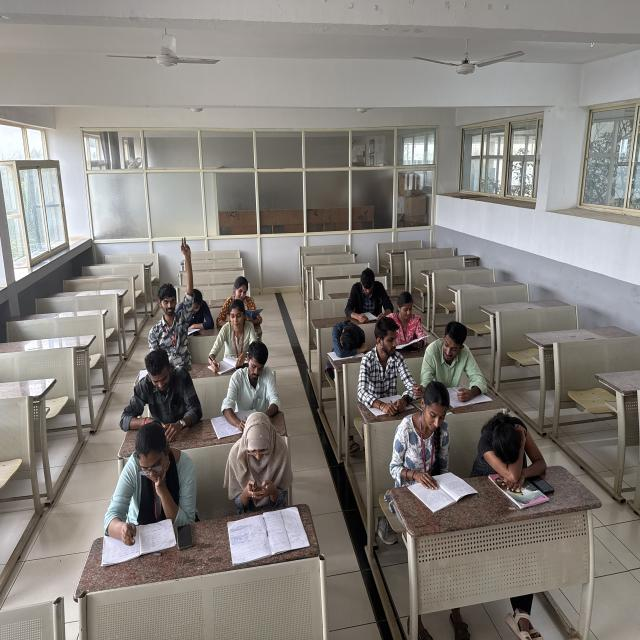Hand Rising: (124, 220, 194, 365)
Reading: (403, 386, 463, 506), (472, 386, 532, 501), (337, 242, 388, 332), (387, 275, 431, 357), (226, 255, 265, 331)
Sleeping: (322, 315, 372, 370)
Using Phone: (230, 418, 292, 517), (144, 349, 198, 448)
Writing: (100, 425, 176, 590), (356, 321, 409, 419), (225, 340, 282, 431), (208, 301, 254, 373)
